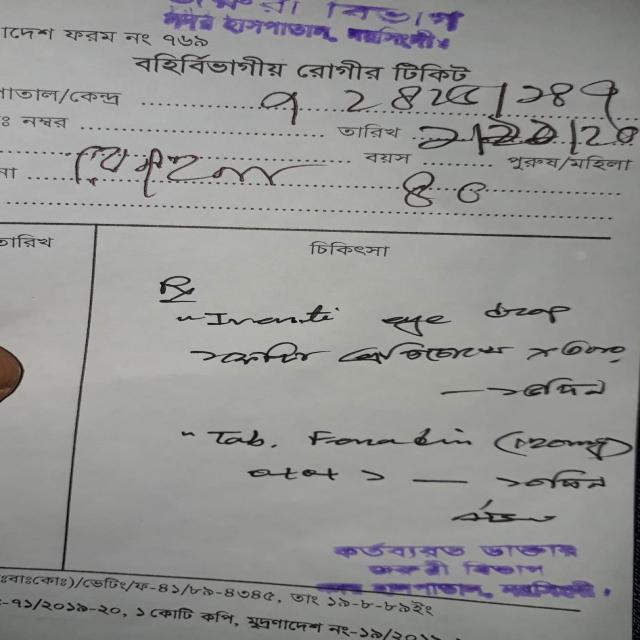Fenadin: (300, 426, 480, 454)
Iventi: (200, 306, 355, 332)
